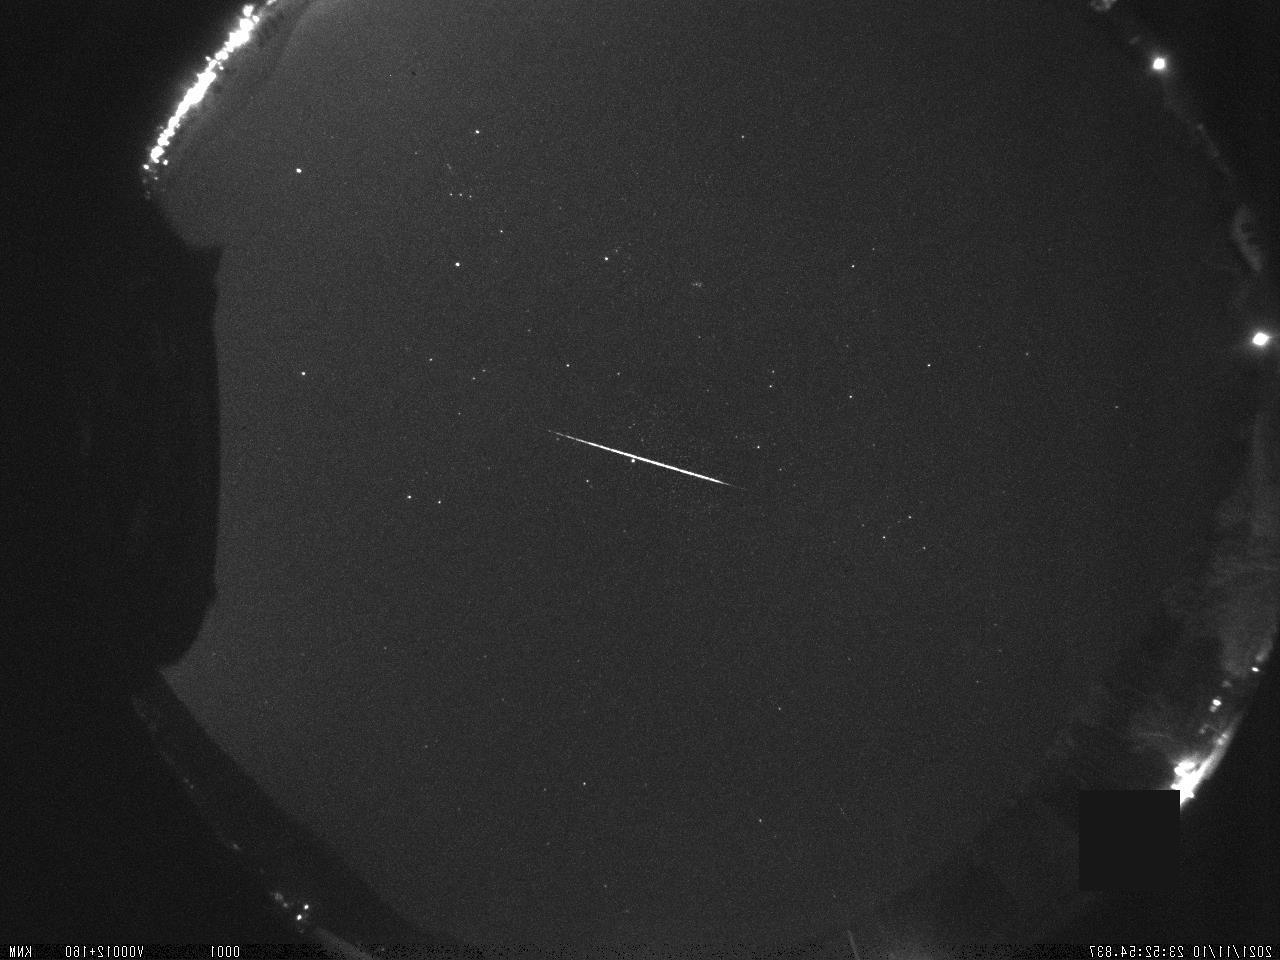meteor: (539, 418, 747, 496)
